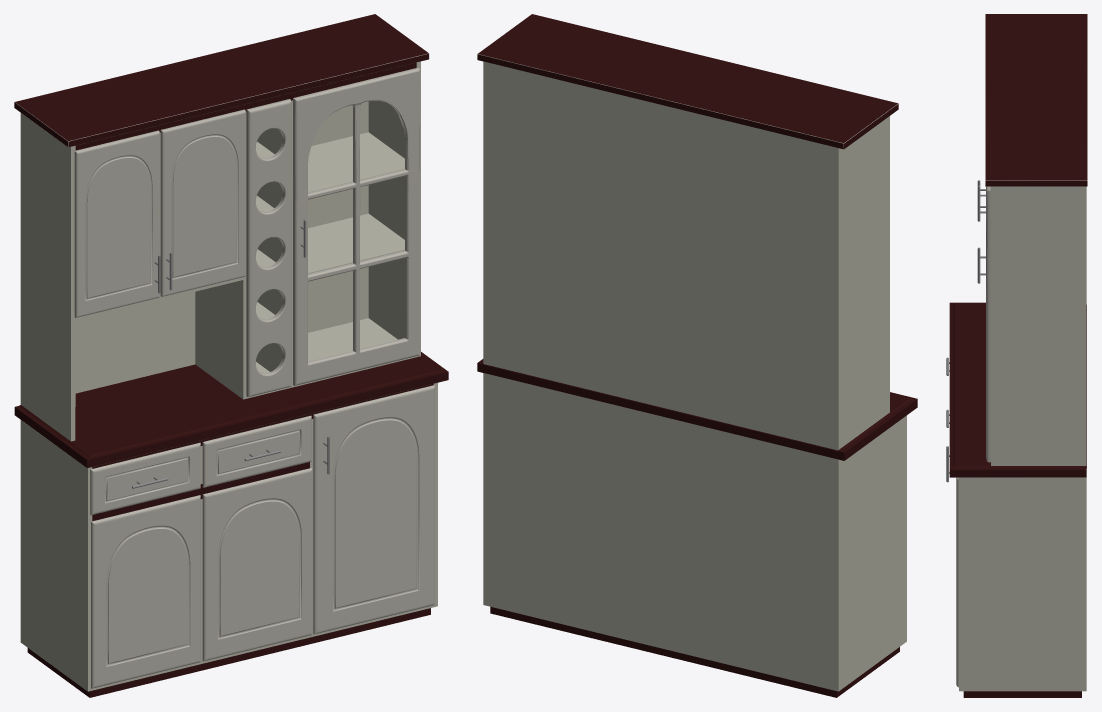
The model's file is alacena.glb.
The picture shows the model from 3 angles, left to right: view 1: azimuth 30°, elevation 25°; view 2: azimuth 150°, elevation 25°; view 3: azimuth 270°, elevation 25°; orthographic projection. The views are drawn at different scales.
Visible parts, largest first — view 1: body02, Box019, body, Box010, Box001, Box022, Box023, Box020, Box024, Box025, Box011, Box017 (+1 smaller); view 2: body02, body, Box010, Box001; view 3: body, body02, Box010, Box001, Box020, Box019.
Boxes of the visible parts, <box> form: body02: <box>20,61,420,441</box>; Box019: <box>313,385,434,634</box>; body: <box>20,383,437,697</box>; Box010: <box>14,14,429,147</box>; Box001: <box>14,352,448,468</box>; Box022: <box>202,468,312,661</box>; Box023: <box>91,495,200,688</box>; Box020: <box>293,67,419,385</box>; Box024: <box>74,130,159,317</box>; Box025: <box>160,109,245,296</box>; Box011: <box>246,99,291,396</box>; Box017: <box>90,442,200,515</box>; body02: <box>483,61,889,450</box>; body: <box>483,373,906,697</box>; Box010: <box>477,14,898,149</box>; Box001: <box>477,359,917,460</box>; body: <box>959,477,1086,697</box>; body02: <box>990,186,1086,466</box>; Box010: <box>985,14,1087,186</box>; Box001: <box>949,302,1086,477</box>; Box020: <box>986,186,990,462</box>; Box019: <box>956,477,958,687</box>.
Size of the model in its own units: 48.82 by 71.04 by 17.41.
